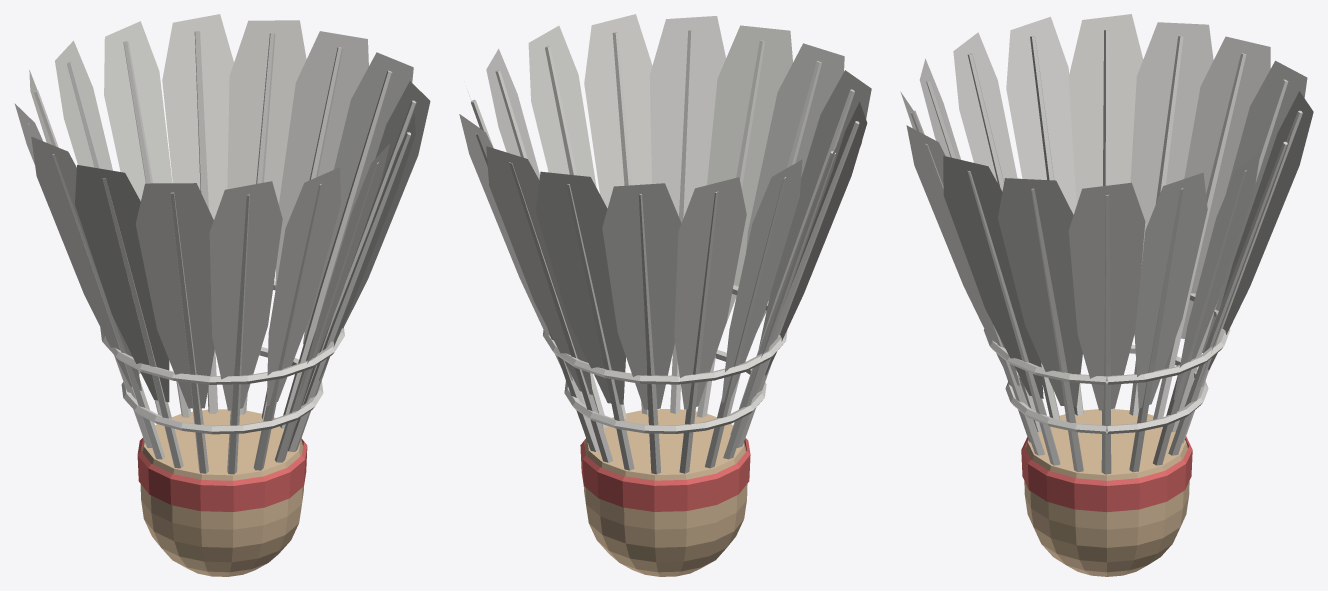
File: shuttlecock.glb
3 renders of one model, left to right at view 1: azimuth 30°, elevation 25°; view 2: azimuth 150°, elevation 25°; view 3: azimuth 270°, elevation 25°, orthographic.
Visible parts, largest first — view 1: shuttlecock; view 2: shuttlecock; view 3: shuttlecock.
Part boxes in pixels (box(x1,y1,x2,y2)): shuttlecock: box(14, 14, 430, 576); shuttlecock: box(459, 14, 871, 576); shuttlecock: box(900, 14, 1313, 576).
Bounding box in the file's own units: 0.8004 × 1 × 0.8004.
